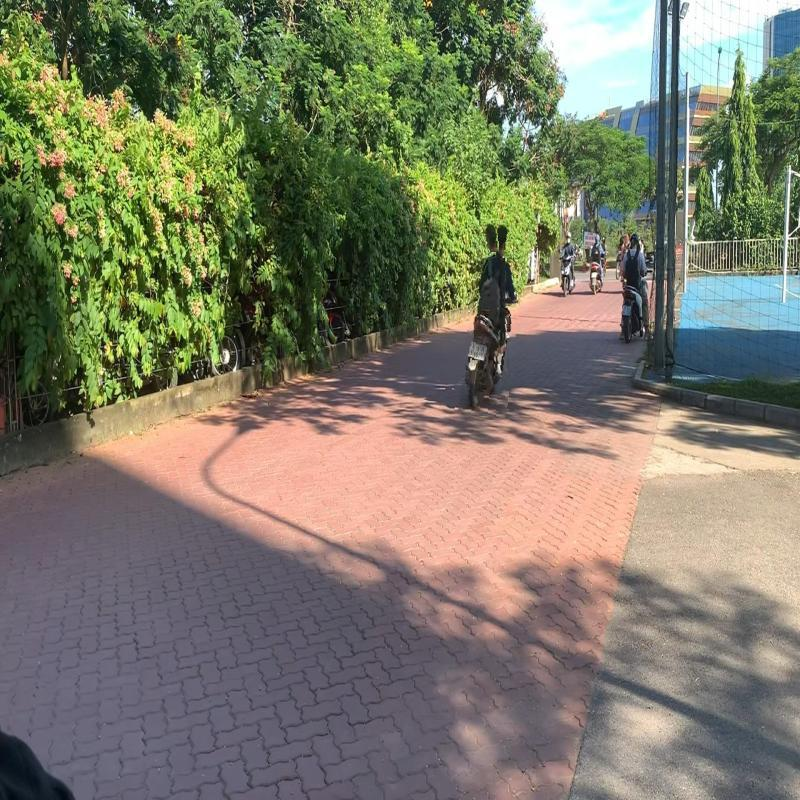licenseplate: (473, 344, 487, 361)
motorcyclist: (464, 220, 524, 417)
nohelmet: (484, 222, 499, 252)
